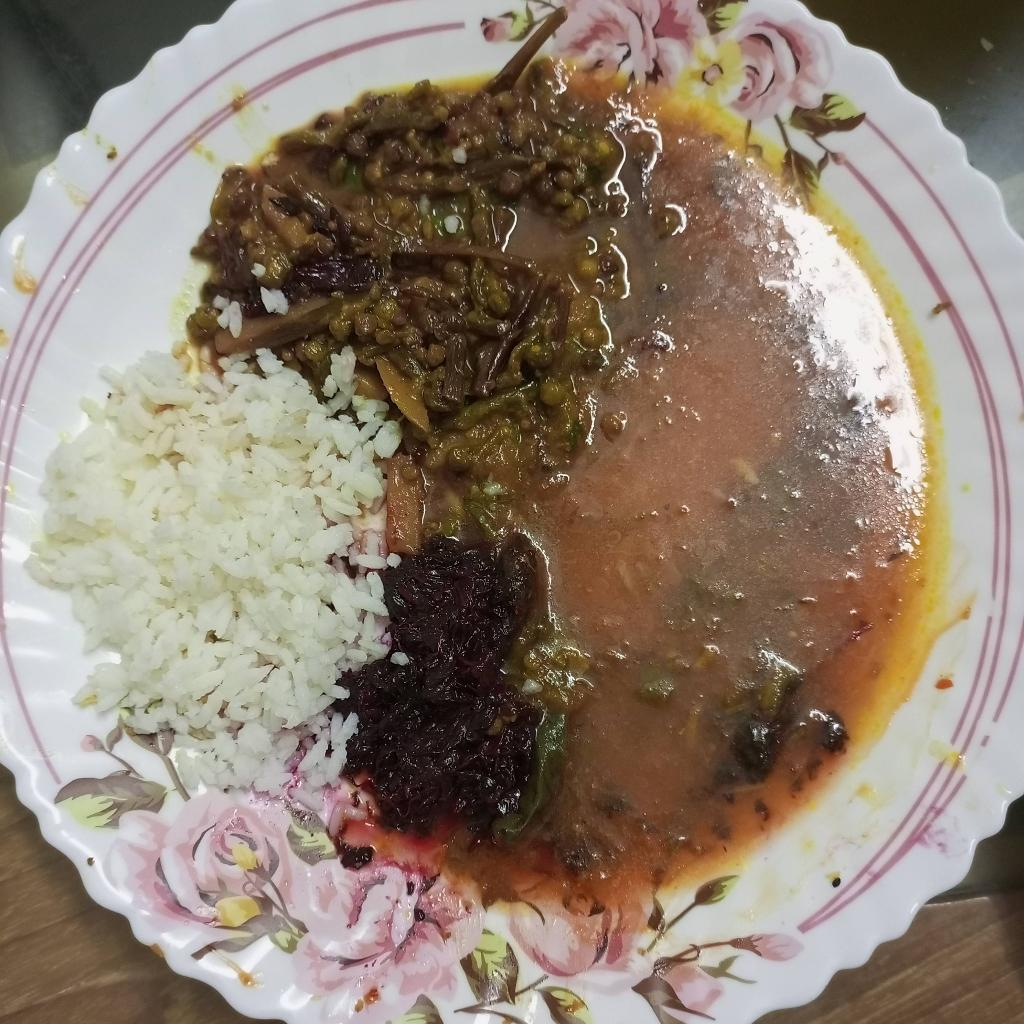green-pea: (190, 58, 935, 921)
rice: (32, 346, 398, 813)
shak: (354, 528, 558, 837)
